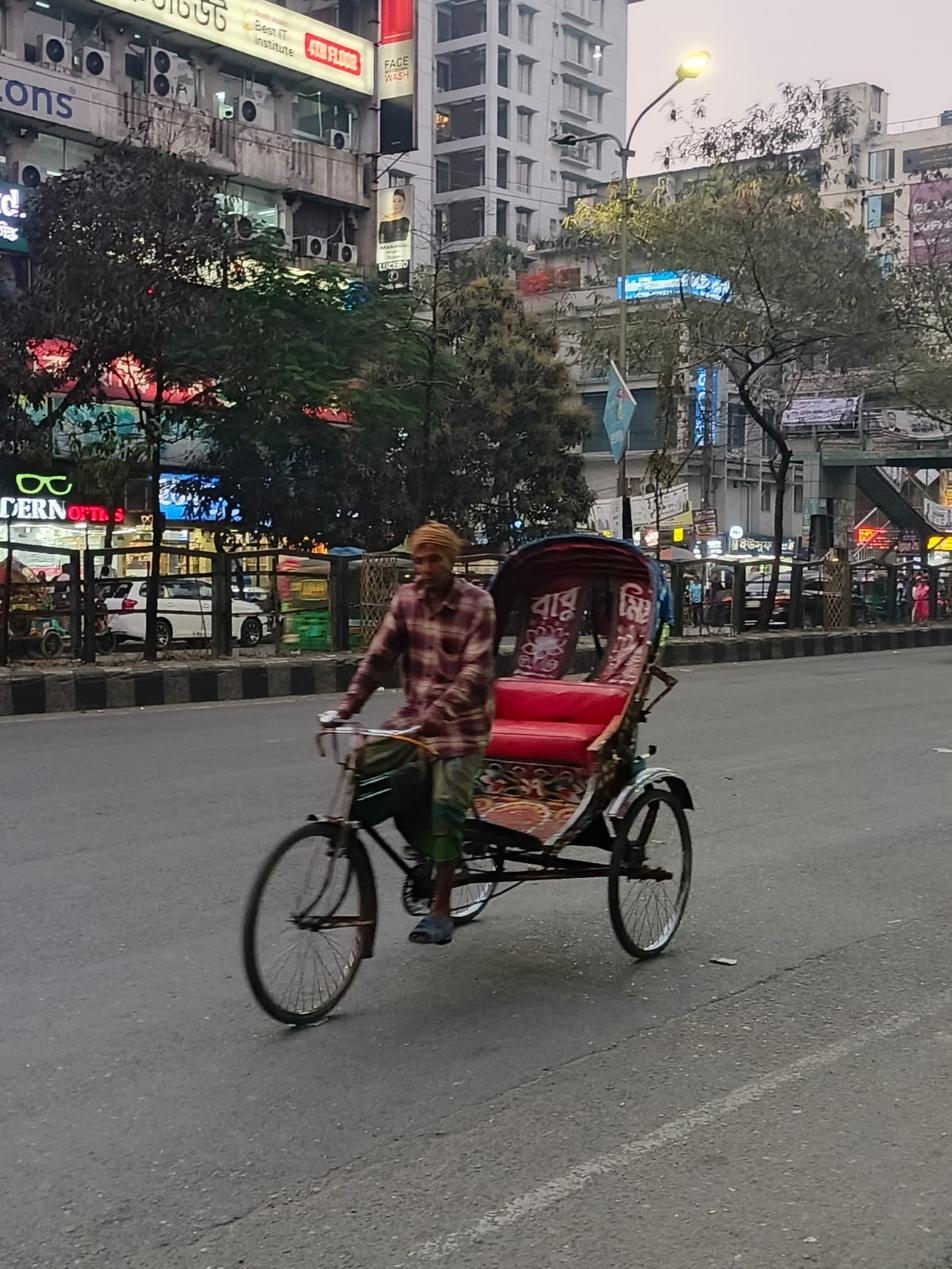auto-ricksaw: (243, 492, 768, 1113)
private car: (74, 537, 332, 674)
